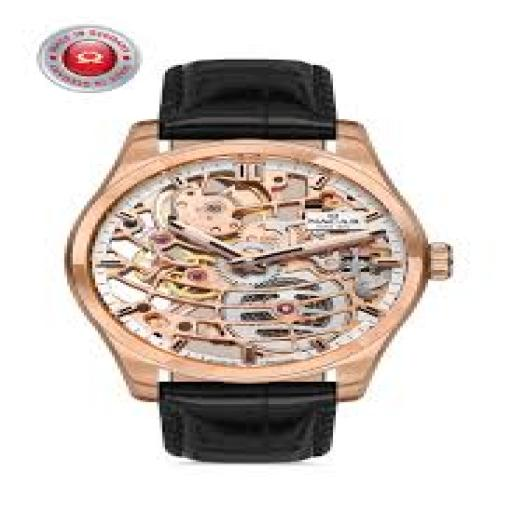KolSaati: (64, 44, 446, 465)
